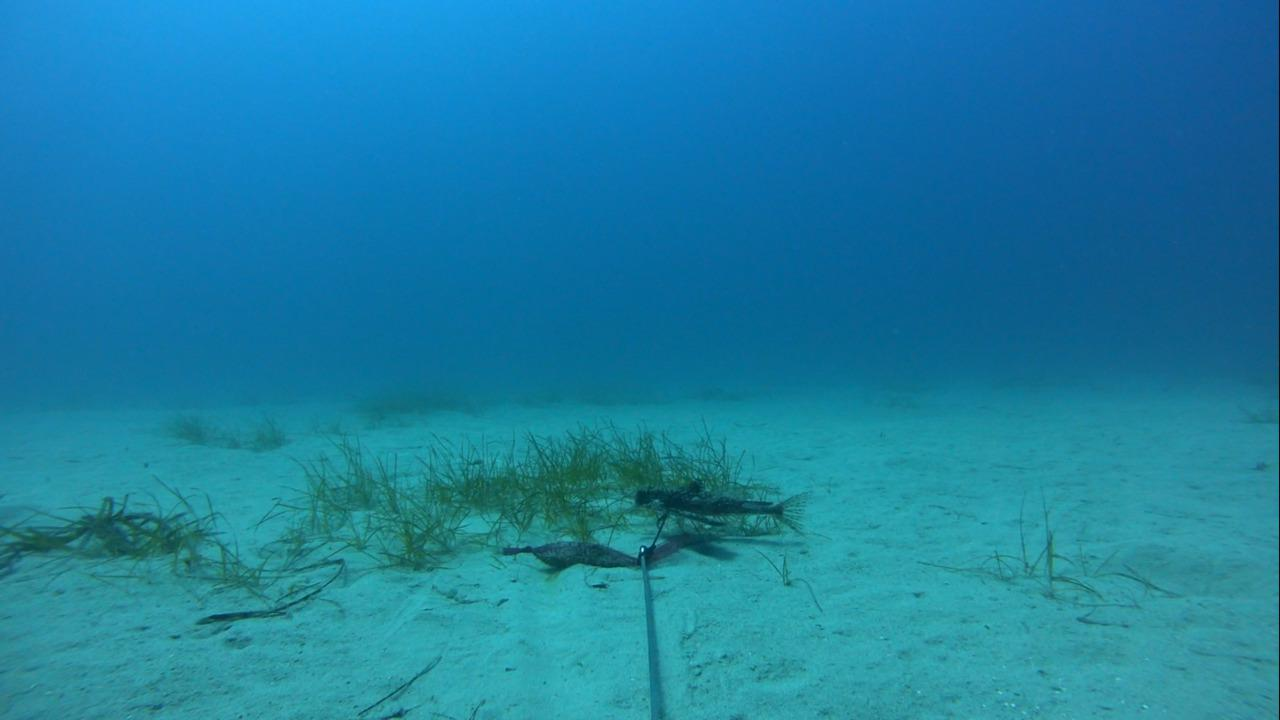dactylopterus: (630, 475, 813, 539)
